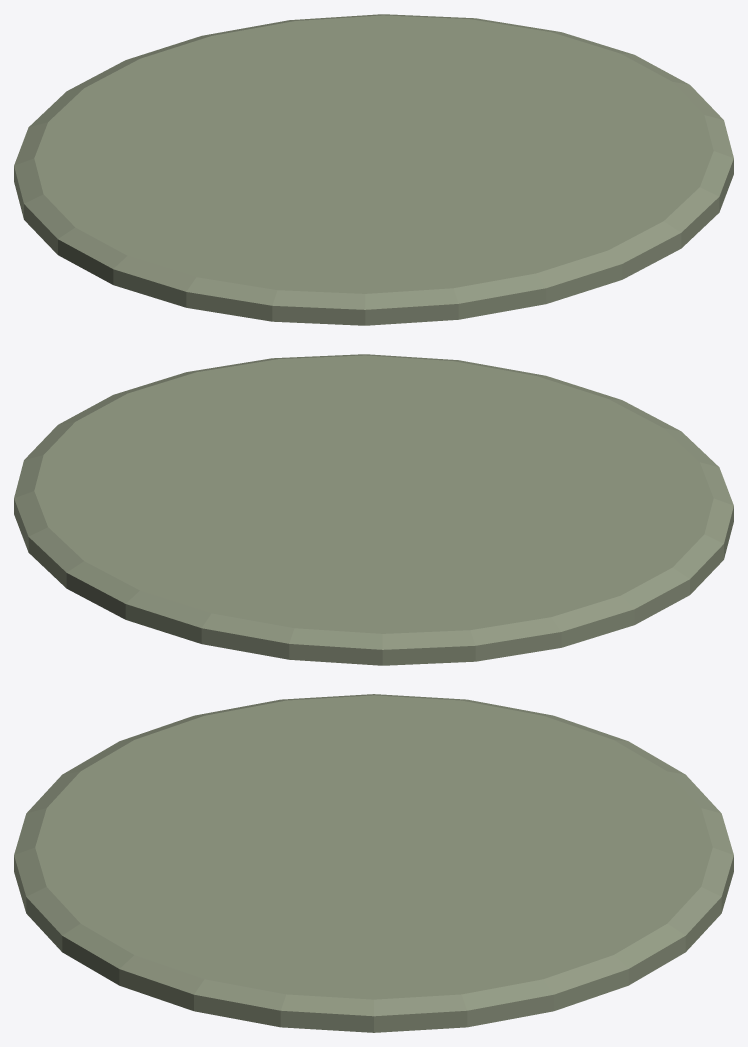
File: ToiletLid.fbx
3 views of the same model, one above another, from view 1: azimuth 30°, elevation 25°; view 2: azimuth 150°, elevation 25°; view 3: azimuth 270°, elevation 25° (orthographic). The views are drawn at different scales.
Parts seen in each view (by area): view 1: ToiletLid; view 2: ToiletLid; view 3: ToiletLid.
Part boxes in pixels (left/top/right/bottom): ToiletLid: left=14, top=14, right=733, bottom=325; ToiletLid: left=14, top=354, right=733, bottom=665; ToiletLid: left=14, top=694, right=733, bottom=1032.
Bounding box in the file's own units: 0.54 × 0.025 × 0.51.
